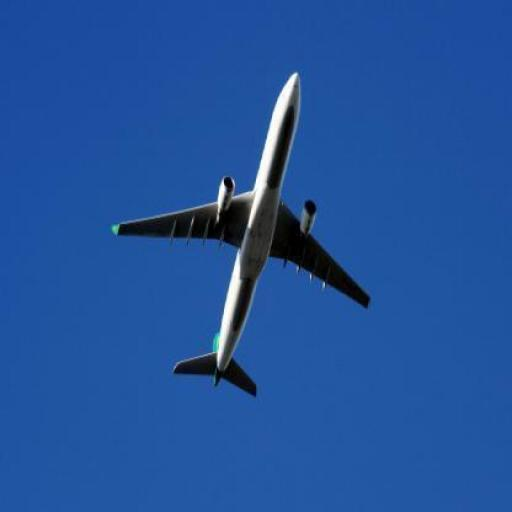aircraft: (111, 70, 374, 400)
